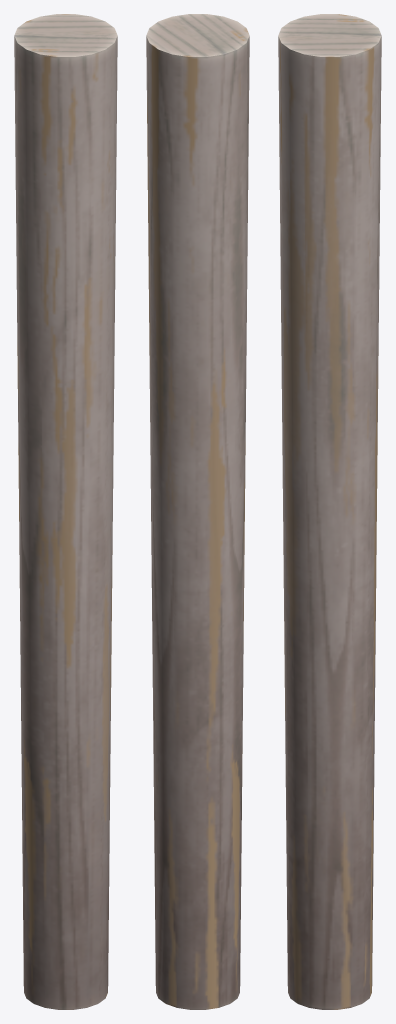
The model's file is SM_Fence_09.fbx.
3 renders of one model, left to right at view 1: azimuth 90°, elevation 25°; view 2: azimuth 210°, elevation 25°; view 3: azimuth 270°, elevation 25°, orthographic.
Parts seen in each view (by area): view 1: SM_Fence_09_LOD0; view 2: SM_Fence_09_LOD0; view 3: SM_Fence_09_LOD0.
Part boxes in pixels (x1,y1,x2,y2): SM_Fence_09_LOD0: (14, 14, 117, 1009); SM_Fence_09_LOD0: (146, 14, 249, 1009); SM_Fence_09_LOD0: (278, 14, 381, 1009).
Size of the model in its own units: 10.41 by 10.58 by 108.
1 material, 1 textured.
